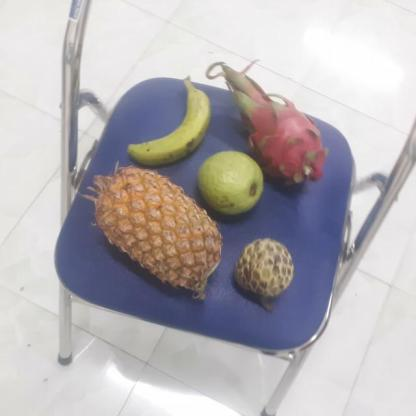annona: (232, 238, 296, 298)
banana: (125, 82, 209, 168)
guava: (195, 152, 266, 217)
pineapple: (88, 167, 223, 298)
pitaya: (230, 90, 321, 184)
